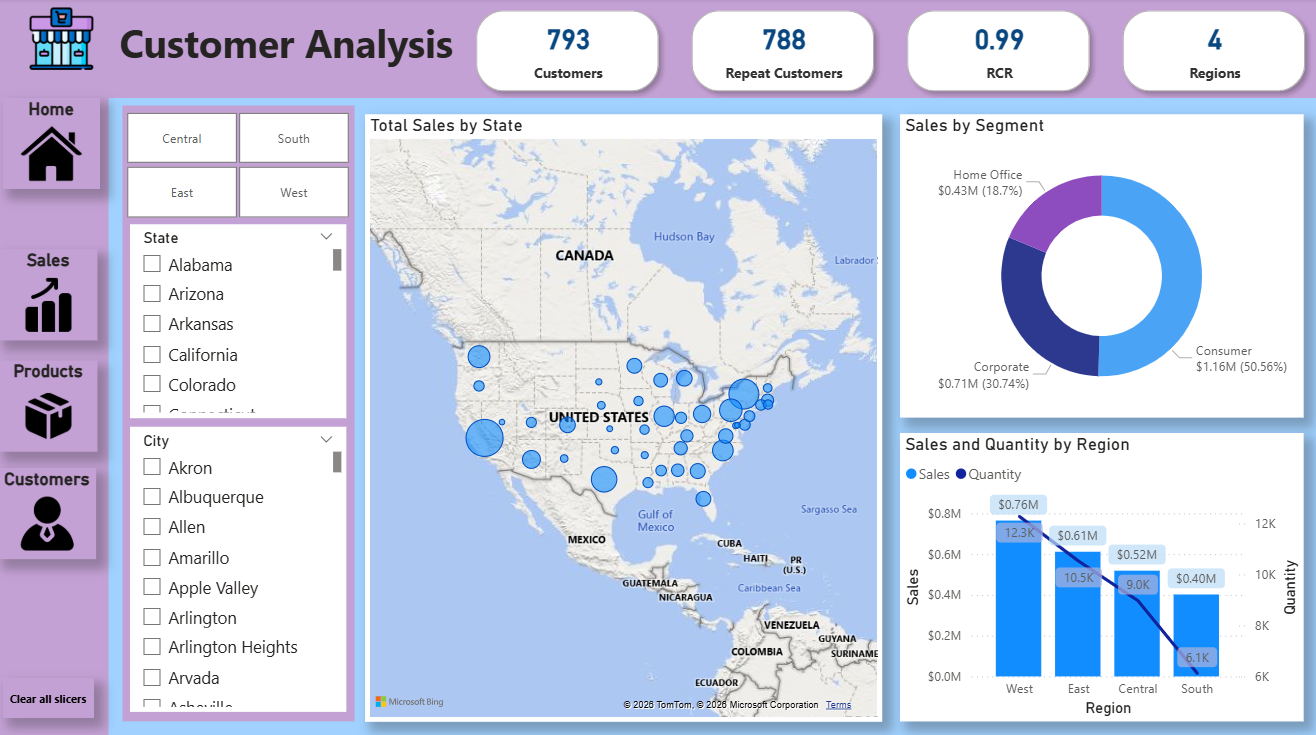

The dashboard page shown, as its layout file describes it:
{"tool":"powerbi","page":{"name":"Customer Analysis","canvas":[1280,720],"ordinal":3},"visuals":[{"type":"shape","box":[123.1,103.8,224.4,594.8],"z":0},{"type":"shape","box":[0,0.1,1280,96.5],"z":1000},{"type":"shape","box":[0,0,109.8,720.2],"z":2000},{"type":"image","title":"Sales","box":[3.1,242.5,95.3,88.1],"z":3000},{"type":"image","title":"Products","box":[3.6,350.1,95.3,88.1],"z":4000},{"type":"image","title":"Customers","box":[2.4,453.8,95.3,88.1],"z":5000},{"type":"actionButton","box":[7.2,656.3,88.1,38.6],"z":6000},{"type":"image","title":"Home","box":[6.8,96.3,94.1,88.1],"z":7000},{"type":"image","box":[27.7,3.6,73.6,71.2],"z":8000},{"type":"textbox","box":[109.8,13.3,342.6,63.9],"z":9000},{"type":"cardVisual","fields":{"Data":["DAXMeasures.Total Customers","DAXMeasures.RepeatCustomerCount","DAXMeasures.RCR","DAXMeasures.Regions"]},"box":[452.4,0,827.6,102.5],"z":10000},{"type":"donutChart","fields":{"Y":["DAXMeasures.Total Sales"],"Category":["DimCustomers.Segment"]},"box":[873.5,112.2,389.7,293.2],"z":11000},{"type":"map","fields":{"Category":["DimCustomers.State"],"Size":["DAXMeasures.Total Sales"]},"box":[357.1,112.2,499.5,586.3],"z":12000},{"type":"lineClusteredColumnComboChart","fields":{"Y":["DAXMeasures.Total Sales"],"Y2":["DAXMeasures.Total Quantity"],"Category":["DimCustomers.Region"]},"box":[873.5,419.8,389.7,278.7],"z":13000},{"type":"slicer","fields":{"Values":["DimCustomers.Region"]},"box":[101.3,103.8,264.2,114.6],"z":14000},{"type":"slicer","fields":{"Values":["DimCustomers.State"]},"box":[130.3,218.4,208.7,187],"z":15000},{"type":"slicer","fields":{"Values":["DimCustomers.City"]},"box":[130.3,413.8,208.7,275.1],"z":16000}]}

Visuals, with their boxes in screenshot pixels (x1, y1, x2, y2), scaled from the page's 1280x720 canvas onto the 1316x735 screenshot:
shape: bbox=[127, 106, 357, 713]
shape: bbox=[0, 0, 1315, 99]
shape: bbox=[0, 0, 113, 734]
"Sales" image: bbox=[3, 248, 101, 337]
"Products" image: bbox=[4, 357, 102, 447]
"Customers" image: bbox=[2, 463, 100, 553]
actionButton: bbox=[7, 670, 98, 709]
"Home" image: bbox=[7, 98, 104, 188]
image: bbox=[28, 4, 104, 76]
textbox: bbox=[113, 14, 465, 79]
cardVisual - DAXMeasures.Total Customers x DAXMeasures.RepeatCustomerCount: bbox=[465, 0, 1315, 105]
donutChart - DAXMeasures.Total Sales x DimCustomers.Segment: bbox=[898, 115, 1299, 414]
map - DimCustomers.State x DAXMeasures.Total Sales: bbox=[367, 115, 881, 713]
lineClusteredColumnComboChart - DAXMeasures.Total Sales x DAXMeasures.Total Quantity: bbox=[898, 429, 1299, 713]
slicer - DimCustomers.Region: bbox=[104, 106, 376, 223]
slicer - DimCustomers.State: bbox=[134, 223, 349, 414]
slicer - DimCustomers.City: bbox=[134, 422, 349, 703]
